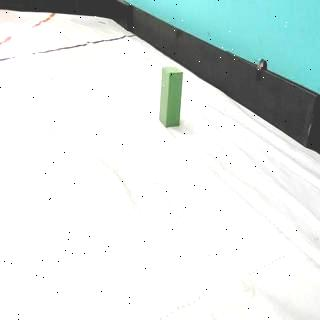greenbox: (160, 68, 184, 128)
